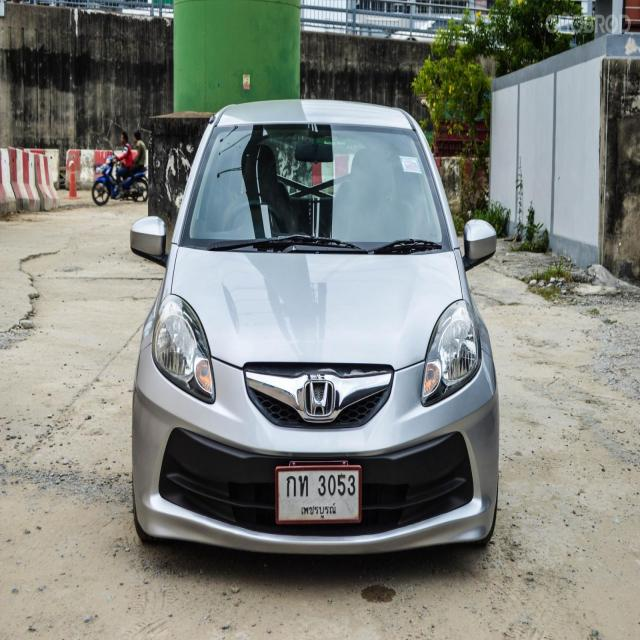license_plate: (274, 460, 363, 531)
